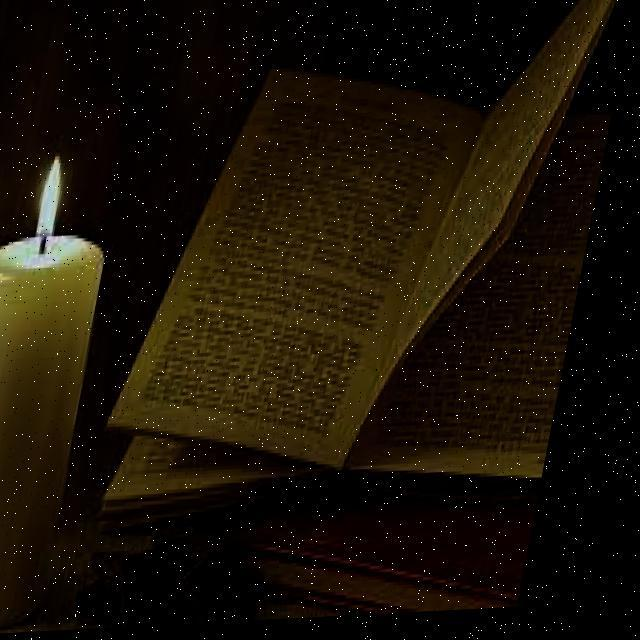Fire: (31, 146, 91, 239)
